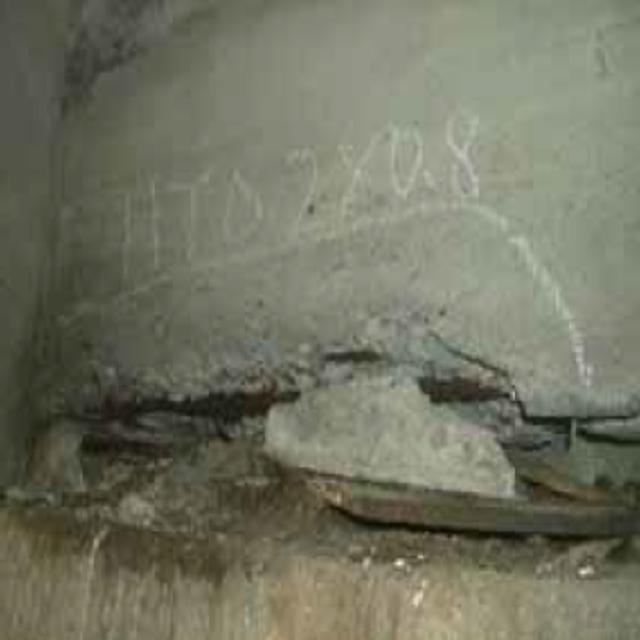spalling: (21, 274, 570, 499)
